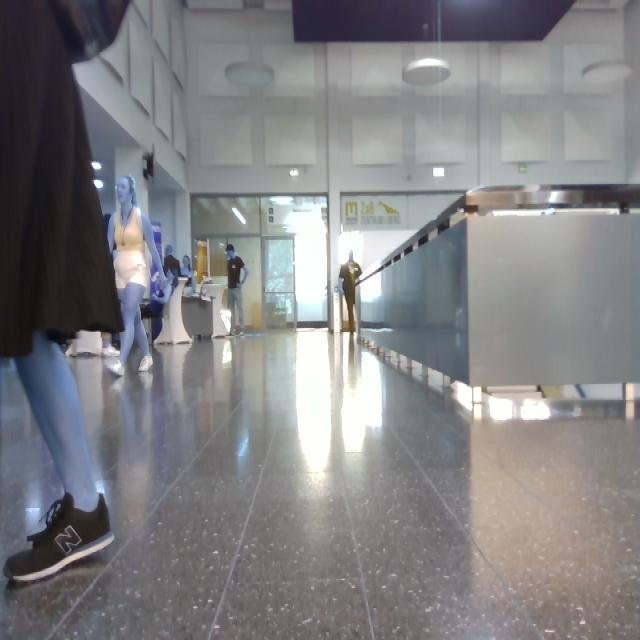door: (265, 238, 297, 329)
light bulb: (53, 1, 130, 64), (404, 59, 451, 85), (226, 63, 275, 87), (584, 61, 634, 84), (232, 208, 246, 225), (95, 181, 104, 189), (92, 164, 102, 171)
person: (1, 1, 128, 583), (109, 178, 167, 377), (227, 244, 250, 337), (340, 253, 364, 334)
staircase: (361, 190, 640, 388)
tiled floor: (2, 331, 640, 639)
